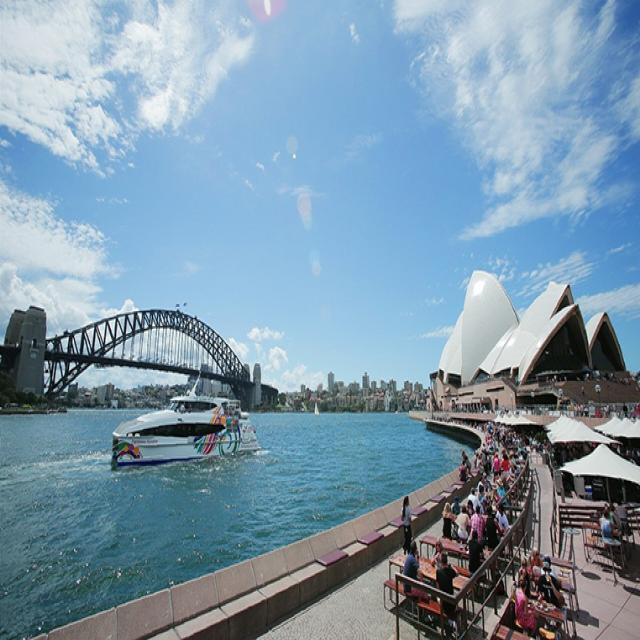body: (461, 426, 640, 639), (423, 364, 639, 428), (512, 574, 541, 637), (434, 551, 460, 614), (401, 539, 425, 596), (468, 529, 487, 595), (537, 559, 562, 607), (483, 504, 504, 552), (468, 504, 486, 546), (400, 494, 412, 556), (440, 500, 456, 546), (454, 503, 471, 543), (497, 506, 510, 551), (460, 448, 476, 480), (430, 536, 445, 567), (458, 459, 468, 484)
